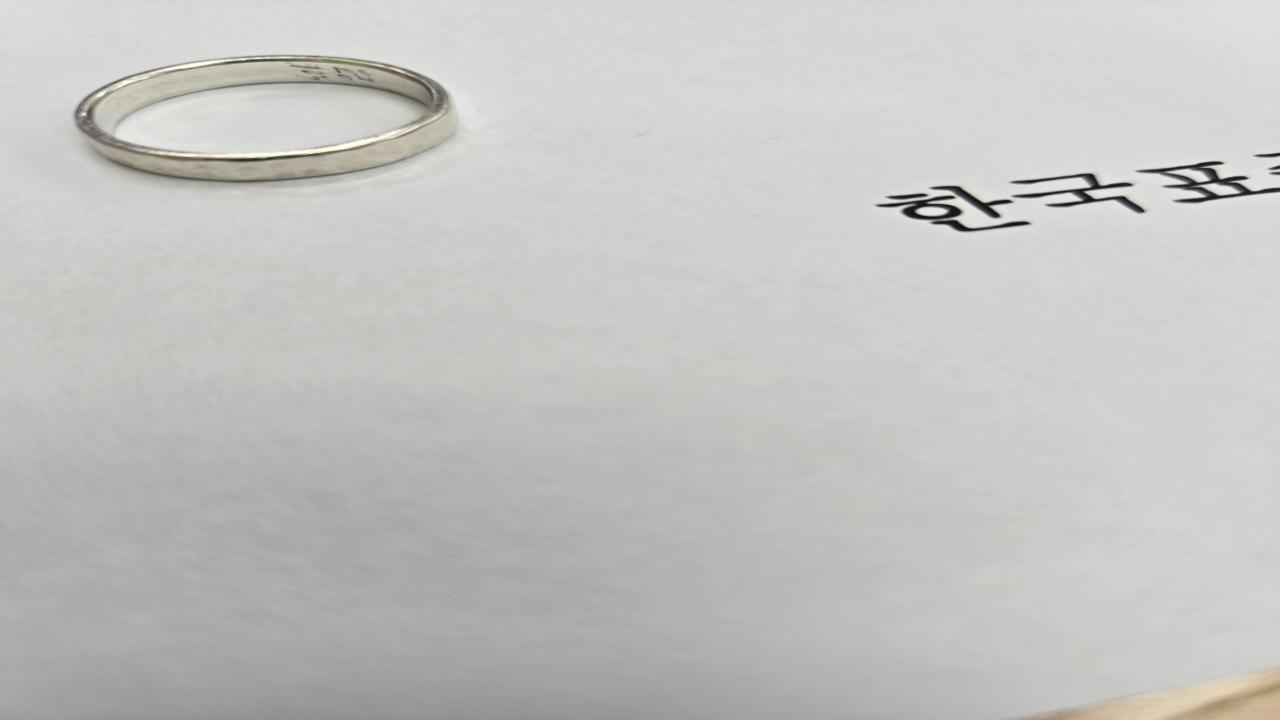ring: (70, 56, 463, 183)
